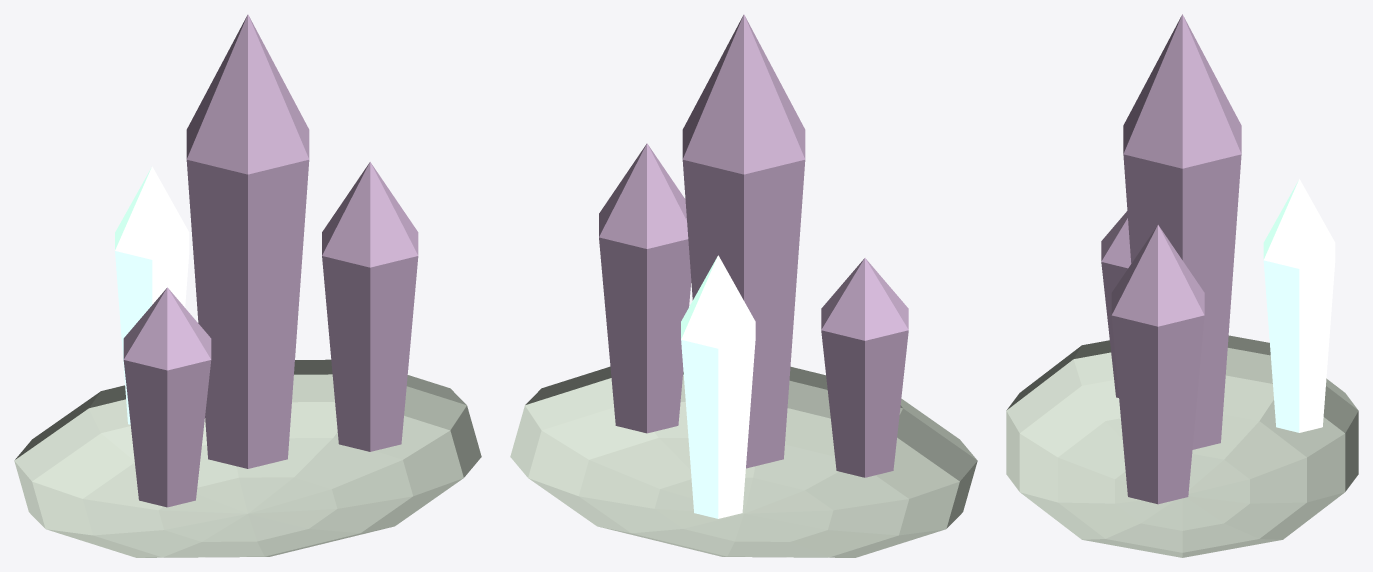
The model's file is runestone-conservatory-amethyst-garden-outcrop__111.glb.
3 renders of one model, left to right at view 1: azimuth 30°, elevation 25°; view 2: azimuth 150°, elevation 25°; view 3: azimuth 270°, elevation 25°, orthographic. The views are drawn at different scales.
Parts seen in each view (by area): view 1: runestone-conservatory-amethyst-outcrop; view 2: runestone-conservatory-amethyst-outcrop; view 3: runestone-conservatory-amethyst-outcrop.
Part boxes in pixels (box(x1,y1,x2,y2)): runestone-conservatory-amethyst-outcrop: box(14, 14, 481, 557); runestone-conservatory-amethyst-outcrop: box(510, 14, 977, 557); runestone-conservatory-amethyst-outcrop: box(1006, 14, 1358, 557).
Size of the model in its own units: 1 by 1.09 by 0.7228.
